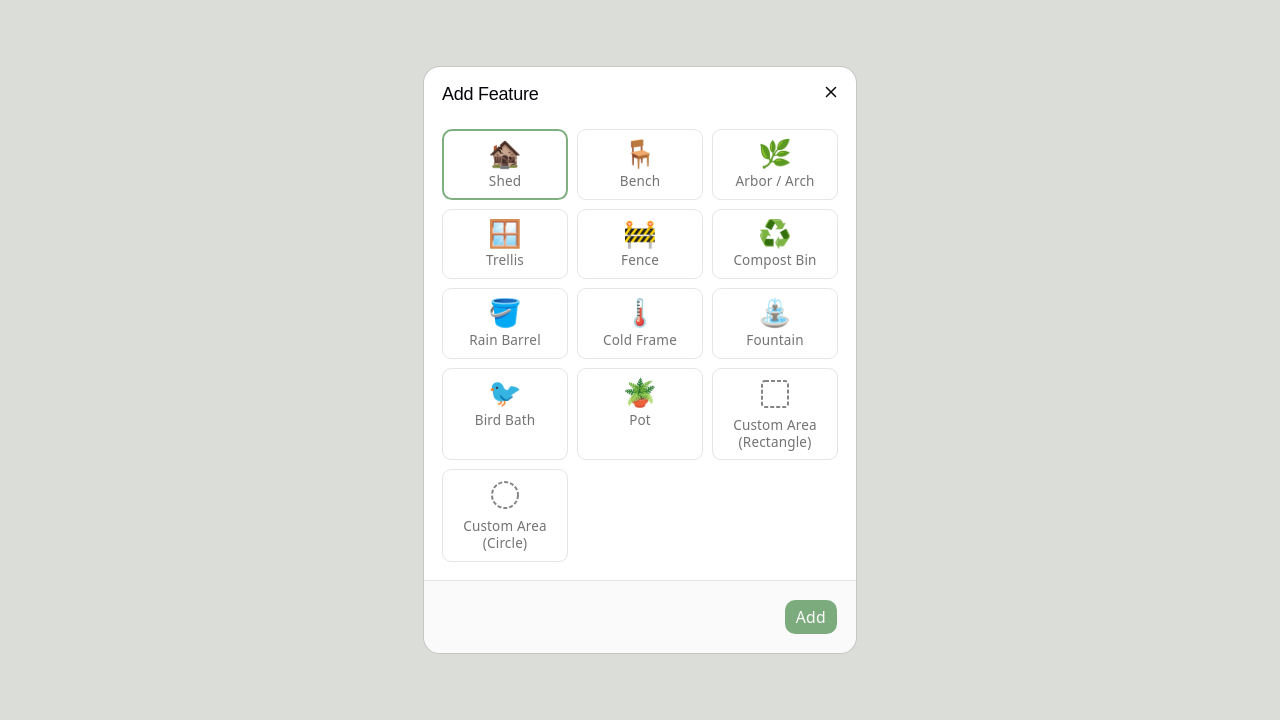
Scenario: PlaceFeatureDialog › custom types › enables Add button once label is typed
Click the button "Custom Area (Rectangle)".
click(775, 414)  # box [712,368,838,460]
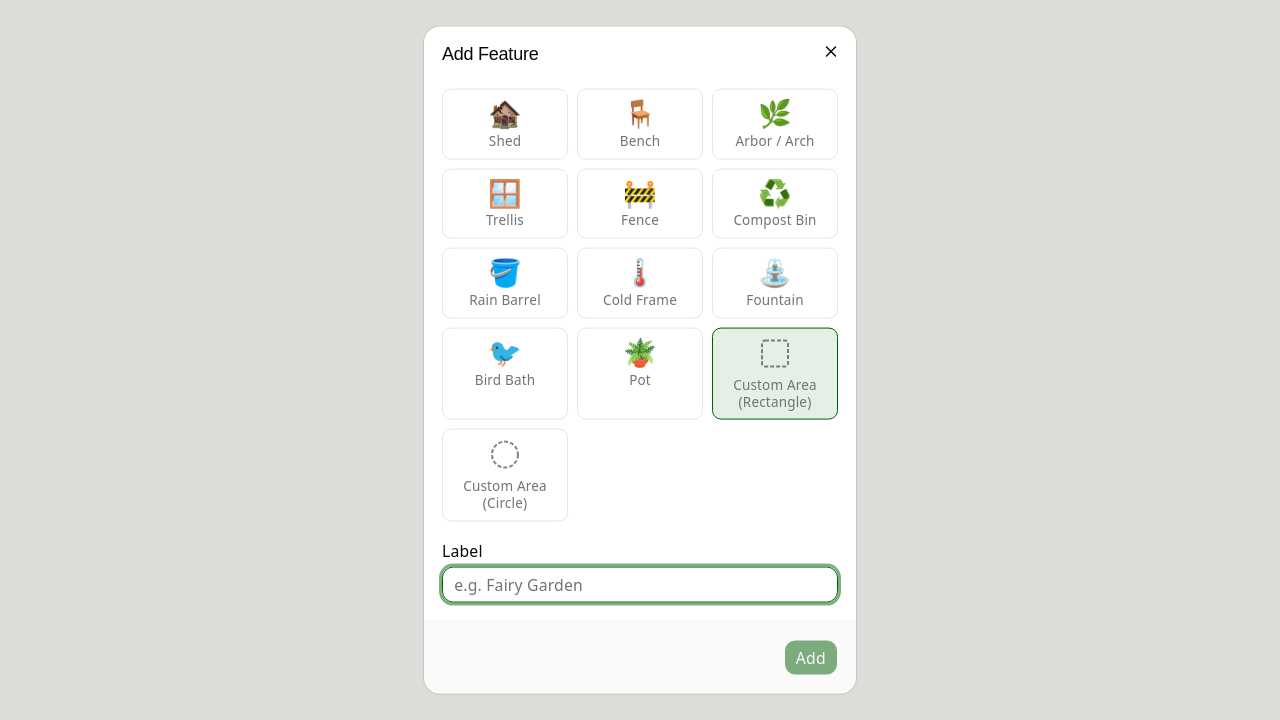
Type "Fairy Garden" into the field labelled "Label".
click(640, 584); type("Fairy Garden")  # box [442,566,838,602]
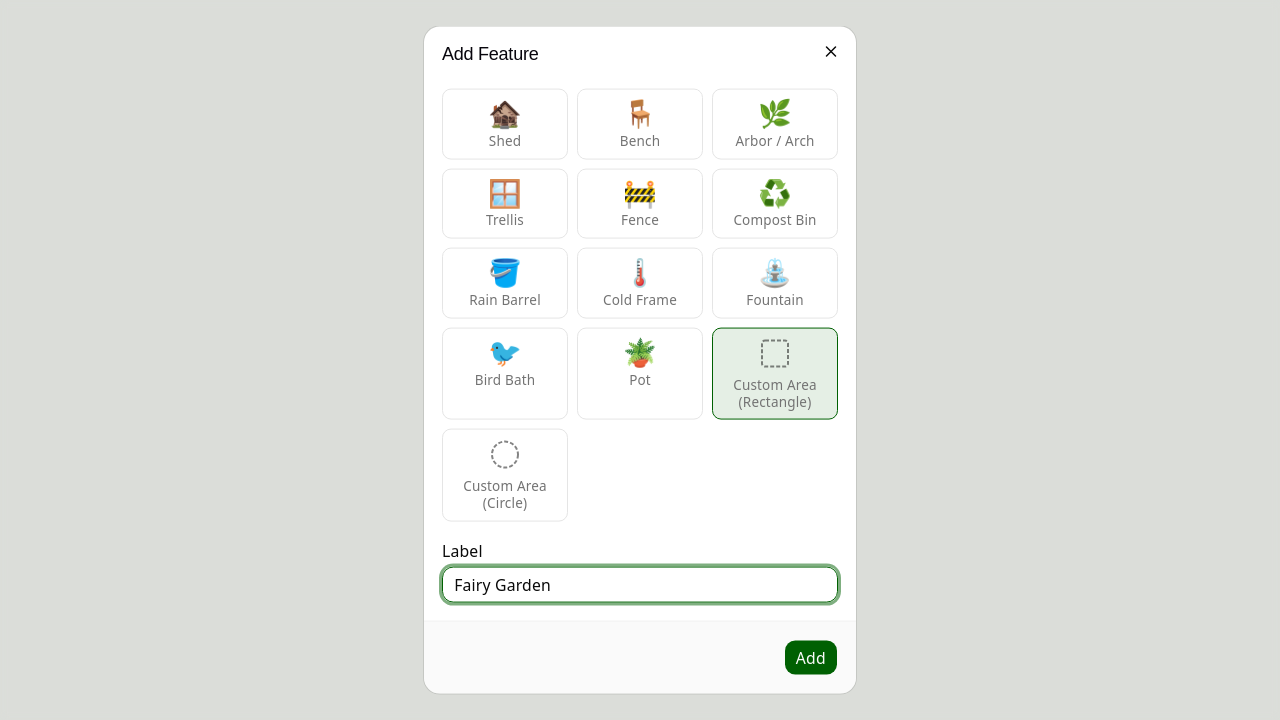
Now the button "Add" is enabled, box [784,639,838,675]
